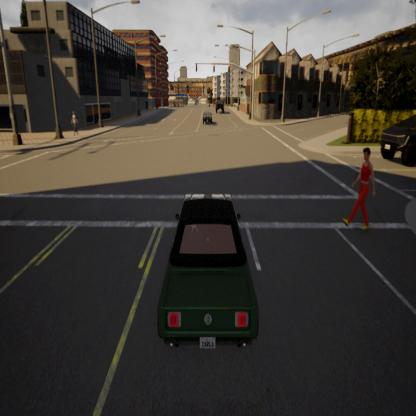Cars: (152, 154, 266, 369), (381, 86, 416, 179), (214, 89, 230, 116), (200, 103, 213, 127)
Pedestrian: (338, 129, 377, 247), (70, 100, 82, 142)
